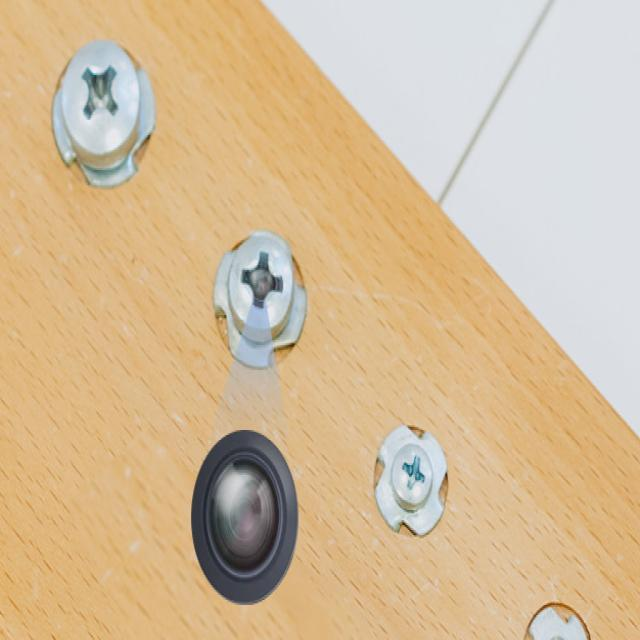hidden camera: (210, 454, 278, 573), (249, 256, 277, 303)
